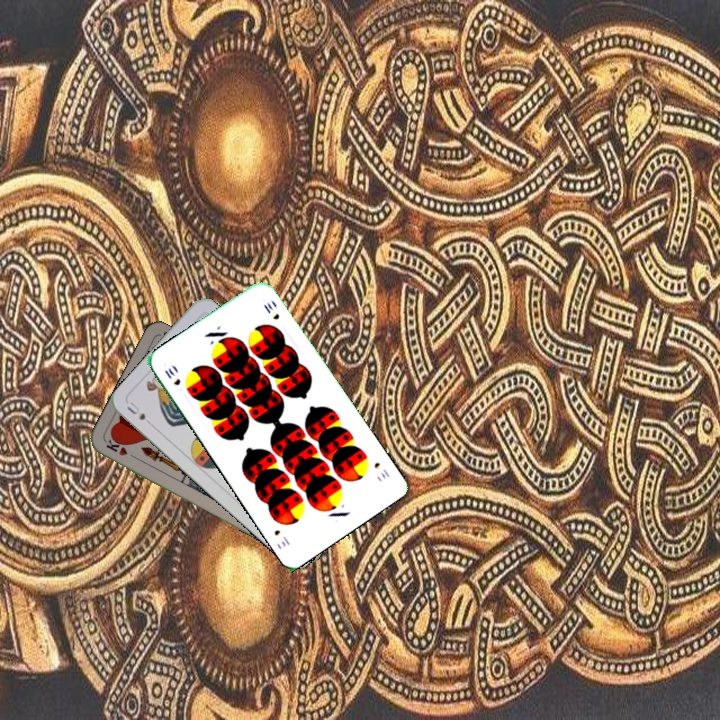HK: (102, 435, 140, 462)
S10: (160, 364, 183, 388), (370, 458, 392, 482)
SU: (123, 398, 148, 423)
